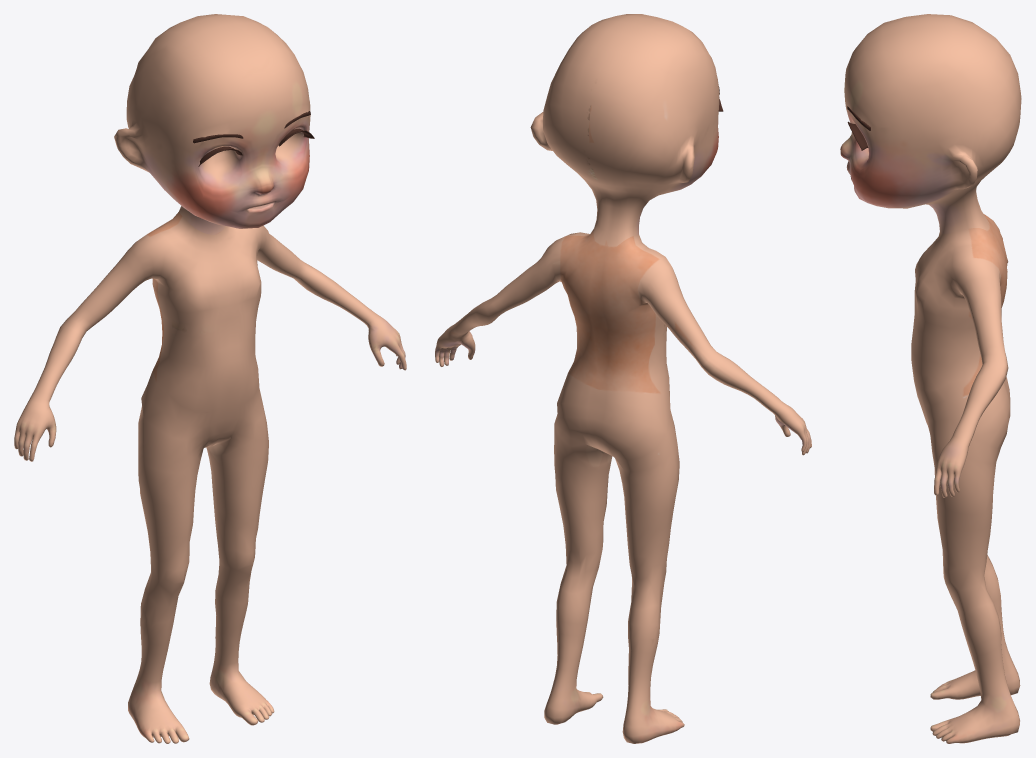
File: ani_character.fbx
The picture shows the model from 3 angles, left to right: view 1: azimuth 30°, elevation 25°; view 2: azimuth 150°, elevation 25°; view 3: azimuth 270°, elevation 25°; orthographic projection. The views are drawn at different scales.
Parts seen in each view (by area): view 1: body; view 2: body; view 3: body.
Boxes of the visible parts, x1,y1,x2,y2 form: body: [14, 14, 406, 743]; body: [435, 14, 811, 743]; body: [840, 14, 1021, 743].
Size of the model in its own units: 62.77 by 110 by 26.12.
